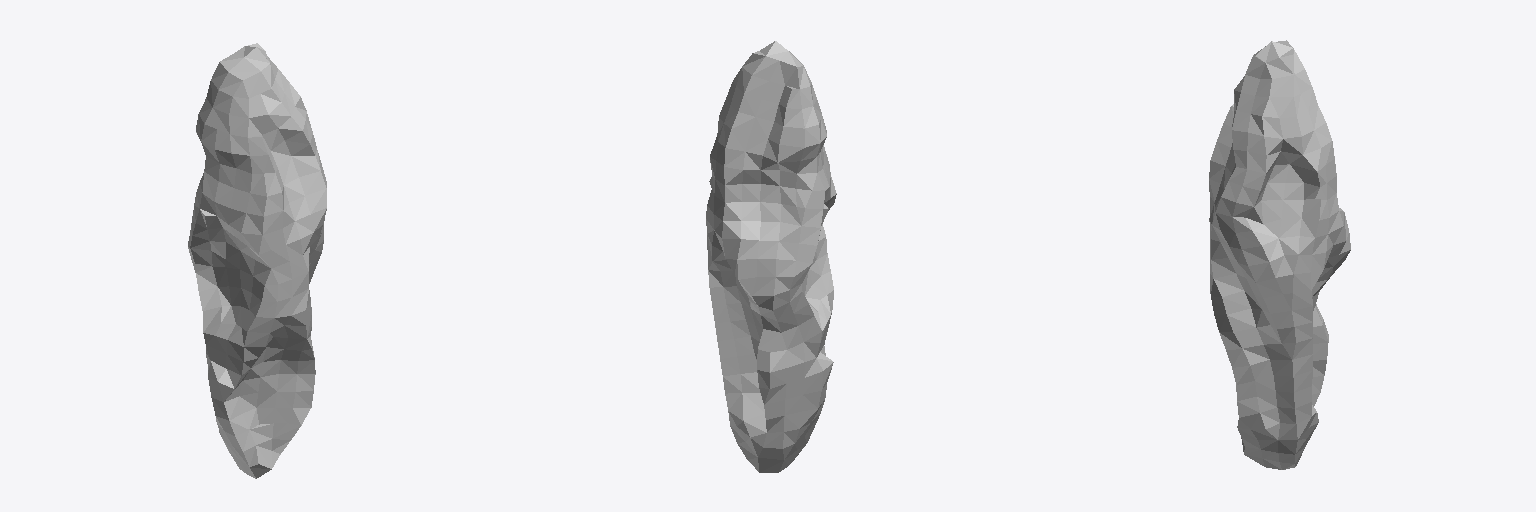
The model's file is FloatingCylinder_1_IM.obj.
The picture shows the model from 3 angles: view 1: azimuth 30°, elevation 25°; view 2: azimuth 150°, elevation 25°; view 3: azimuth 270°, elevation 25°; orthographic projection.
Bounding box in the file's own units: 3.38 × 12.19 × 3.68.